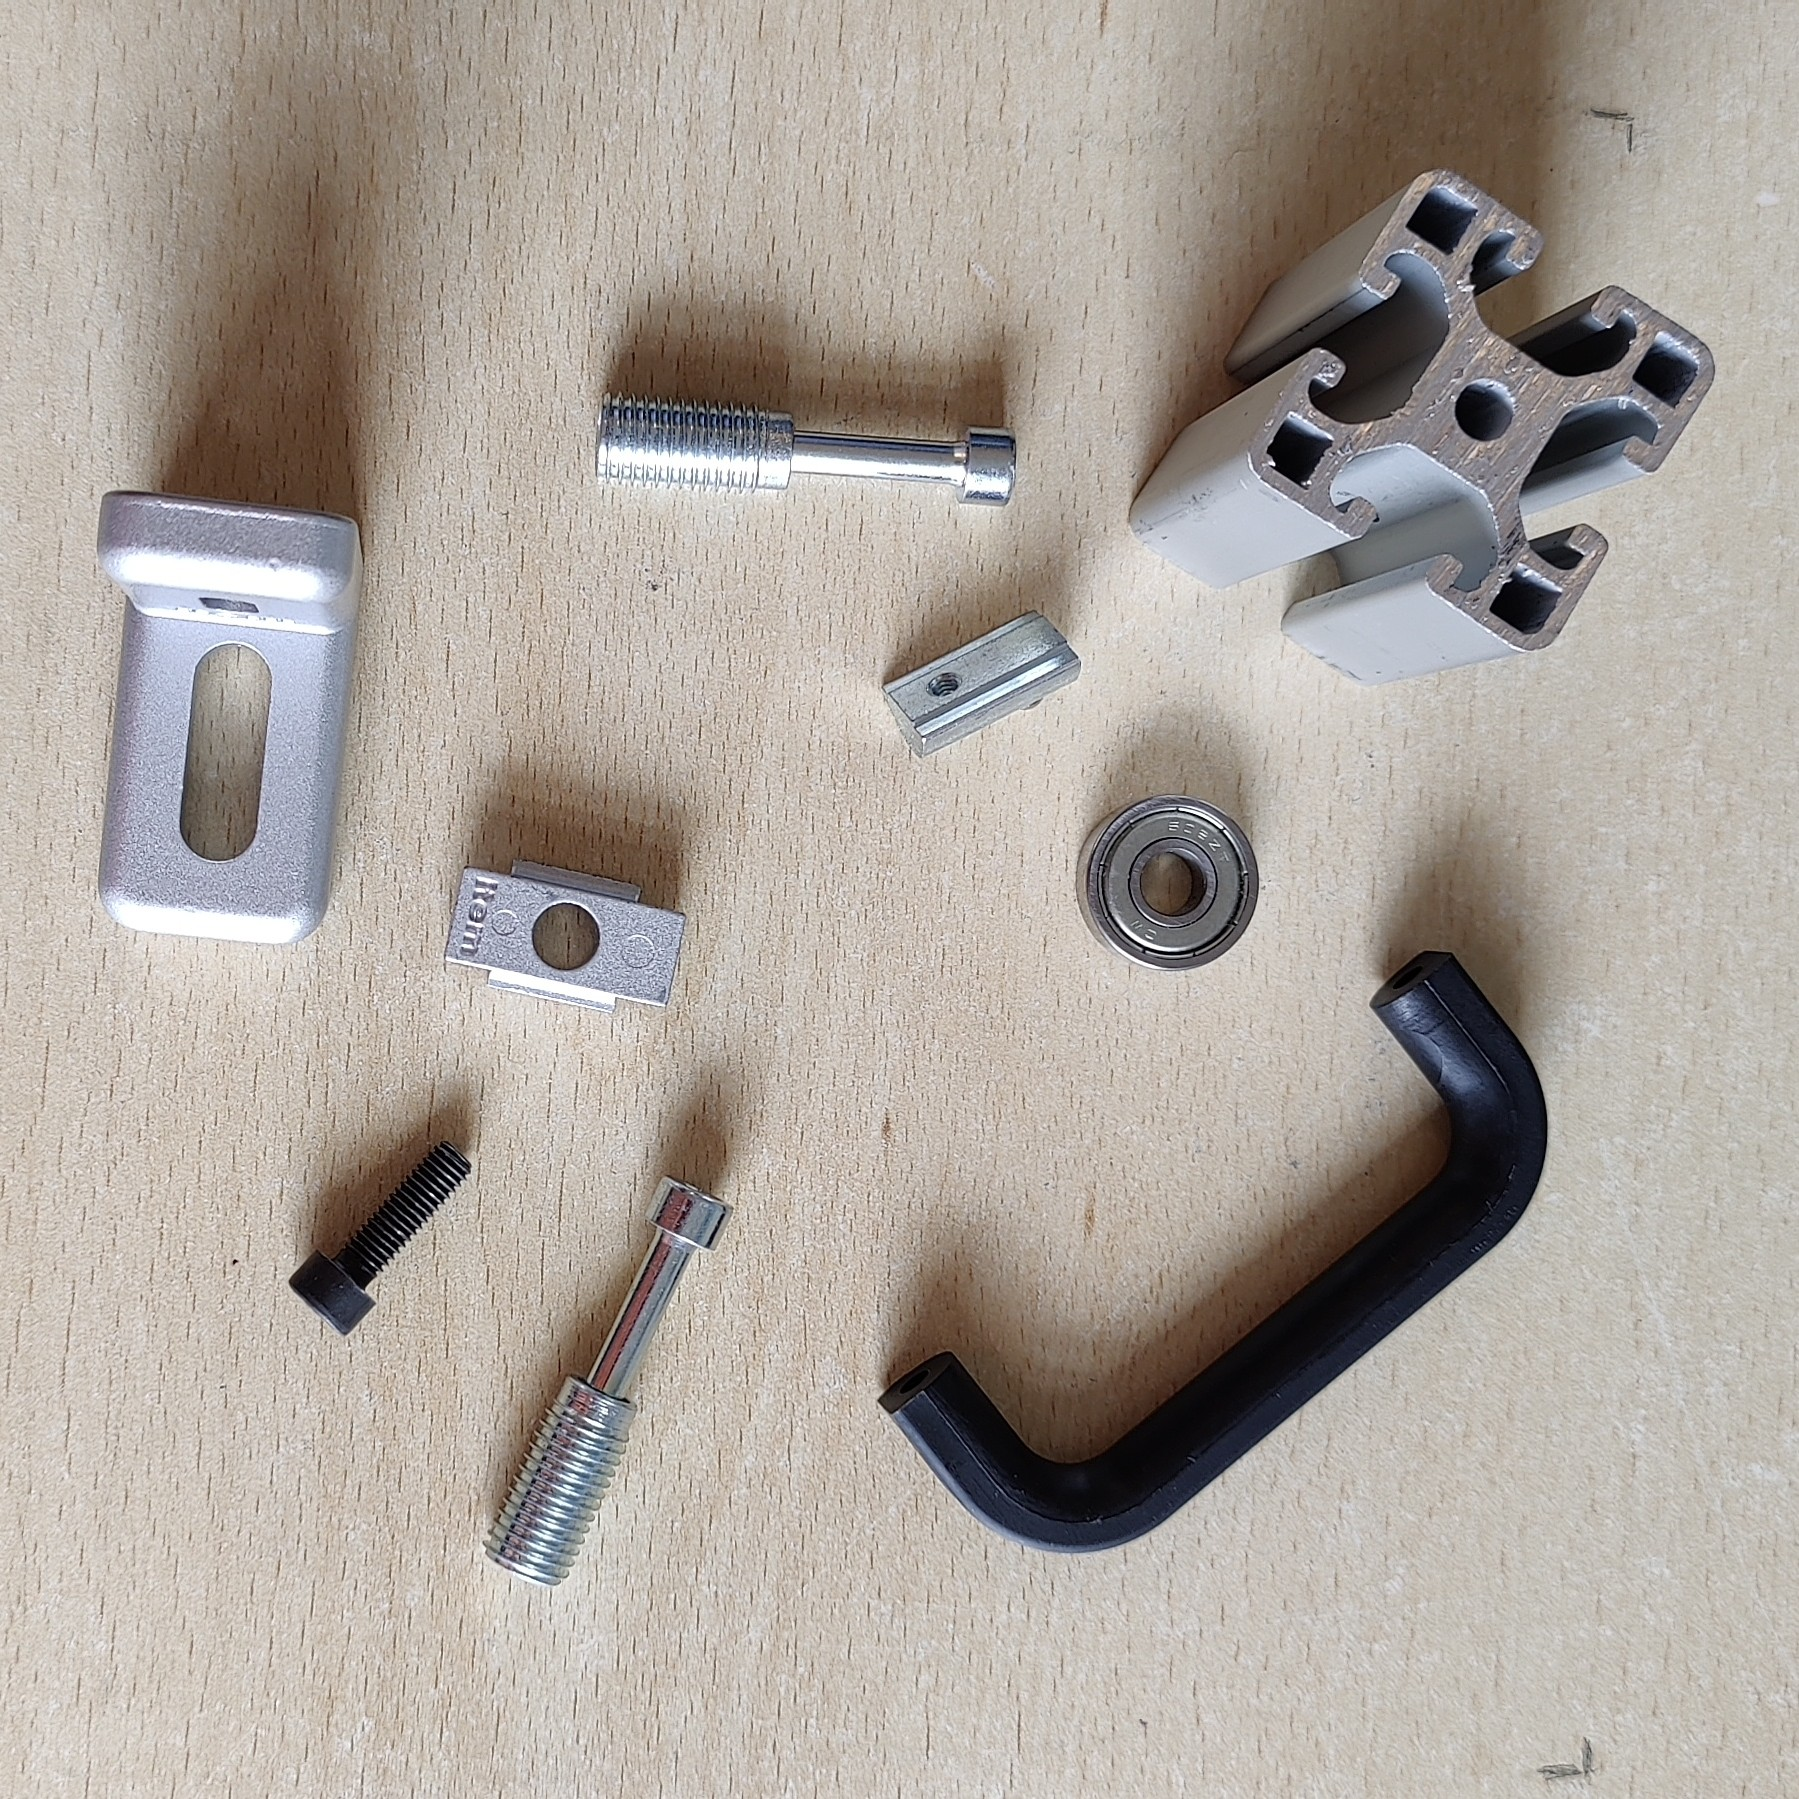Aluminium Extension: (1124, 166, 1718, 689)
Ball Bearing: (1072, 791, 1262, 974)
Multiwinkel: (96, 489, 367, 951)
Pull Handle: (876, 944, 1550, 1558)
Shoulder Socket Head Cap Screw: (481, 1166, 736, 1591), (591, 385, 1021, 509)
Socket Head Cap Screw: (287, 1138, 474, 1336)
T Nut Square: (442, 852, 690, 1016)
T Spring Nut: (876, 606, 1084, 763)
